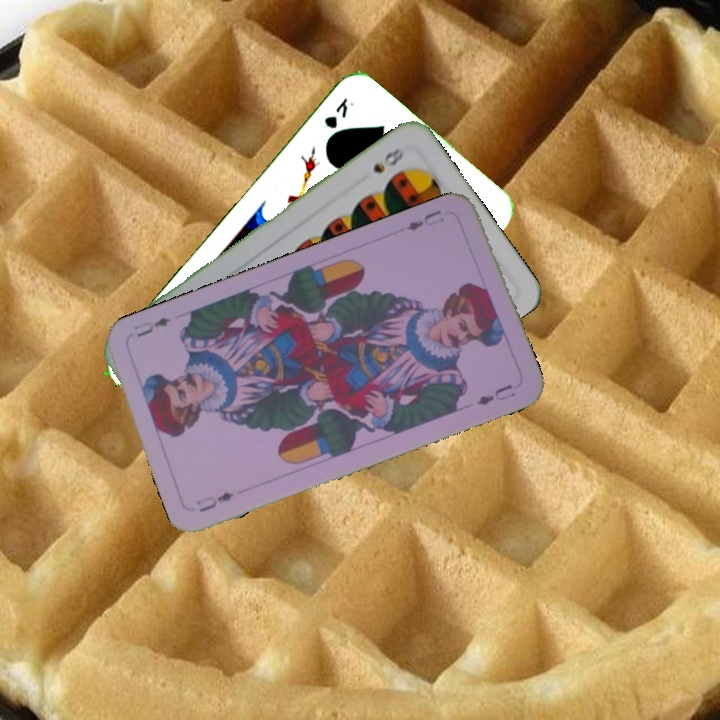EU: (402, 206, 447, 234), (192, 488, 237, 516)
GK: (320, 94, 357, 132)
S8: (369, 144, 407, 177)
